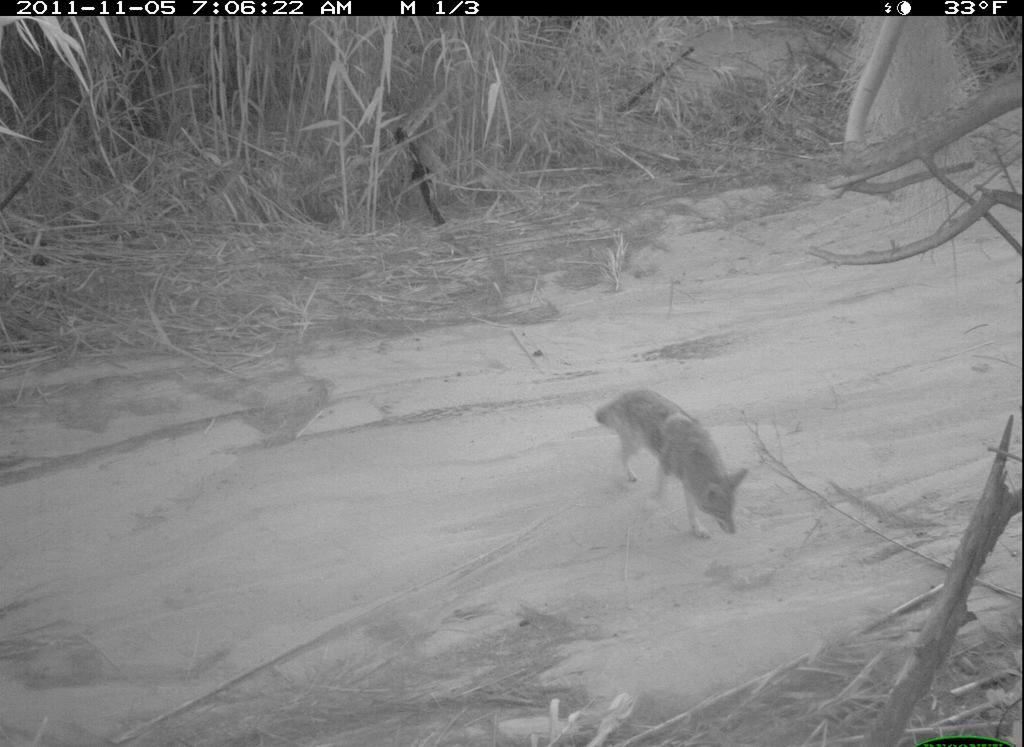coyote: (602, 385, 747, 548)
